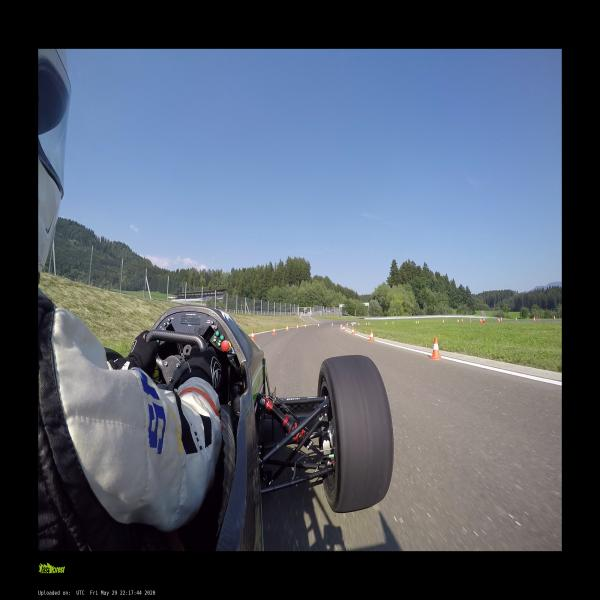orange_cone: (430, 338, 442, 360), (368, 330, 374, 341), (251, 330, 255, 342), (351, 327, 355, 335), (286, 325, 289, 331), (273, 327, 275, 334), (343, 325, 345, 331), (533, 316, 535, 321), (483, 318, 485, 323), (296, 324, 298, 328), (461, 318, 463, 322), (457, 318, 459, 322), (500, 317, 502, 321), (340, 324, 342, 328), (304, 323, 306, 327), (368, 322, 370, 326), (498, 318, 500, 321), (385, 322, 387, 325), (392, 321, 394, 324), (516, 317, 517, 321), (480, 318, 481, 322), (554, 316, 555, 320), (470, 318, 471, 322), (482, 321, 484, 323), (332, 322, 333, 326), (318, 323, 319, 326)
